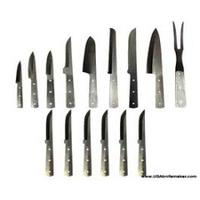knife: (98, 108, 151, 182), (143, 28, 170, 108), (100, 20, 123, 108), (168, 16, 190, 107), (78, 26, 101, 107), (121, 15, 140, 107), (58, 36, 79, 114), (60, 110, 76, 184), (39, 46, 57, 108), (83, 107, 98, 180), (42, 109, 57, 180), (27, 52, 41, 111), (12, 58, 25, 113)
